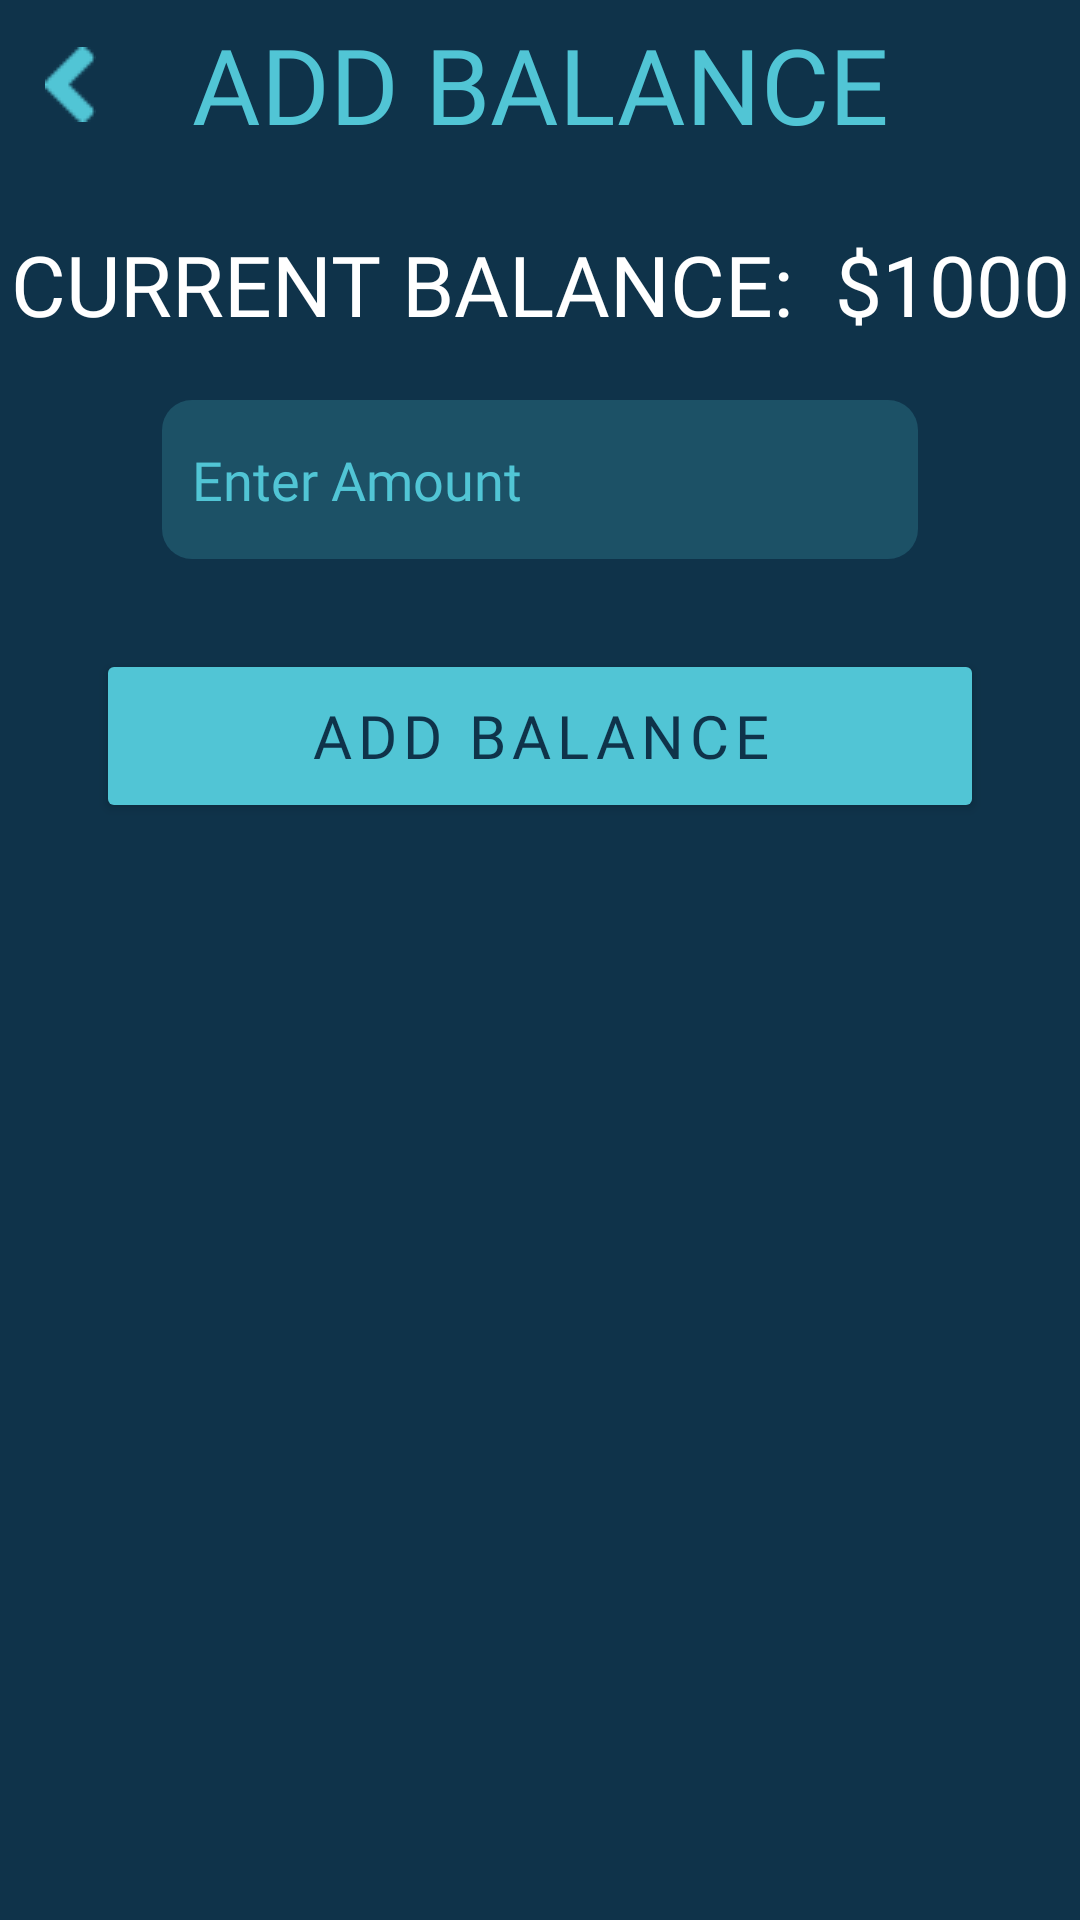

Where icons sit on this 1080px×1920px app screen, as (x1, y1, x2, y2):
back arrow: (45, 47, 94, 122)
